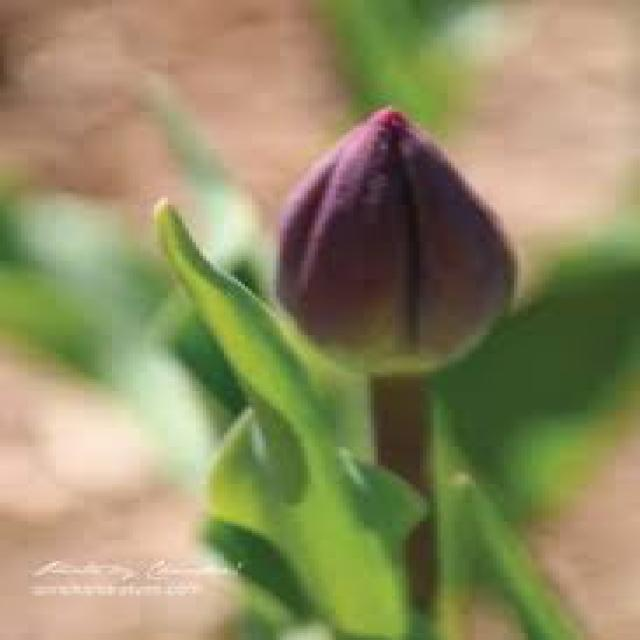Unbloomed: (266, 102, 521, 375)
